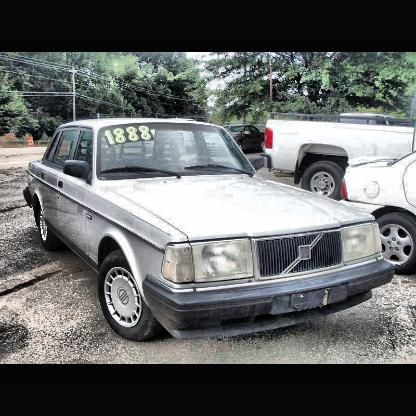Volvo 240 Sedan 1993: (22, 110, 404, 344)
